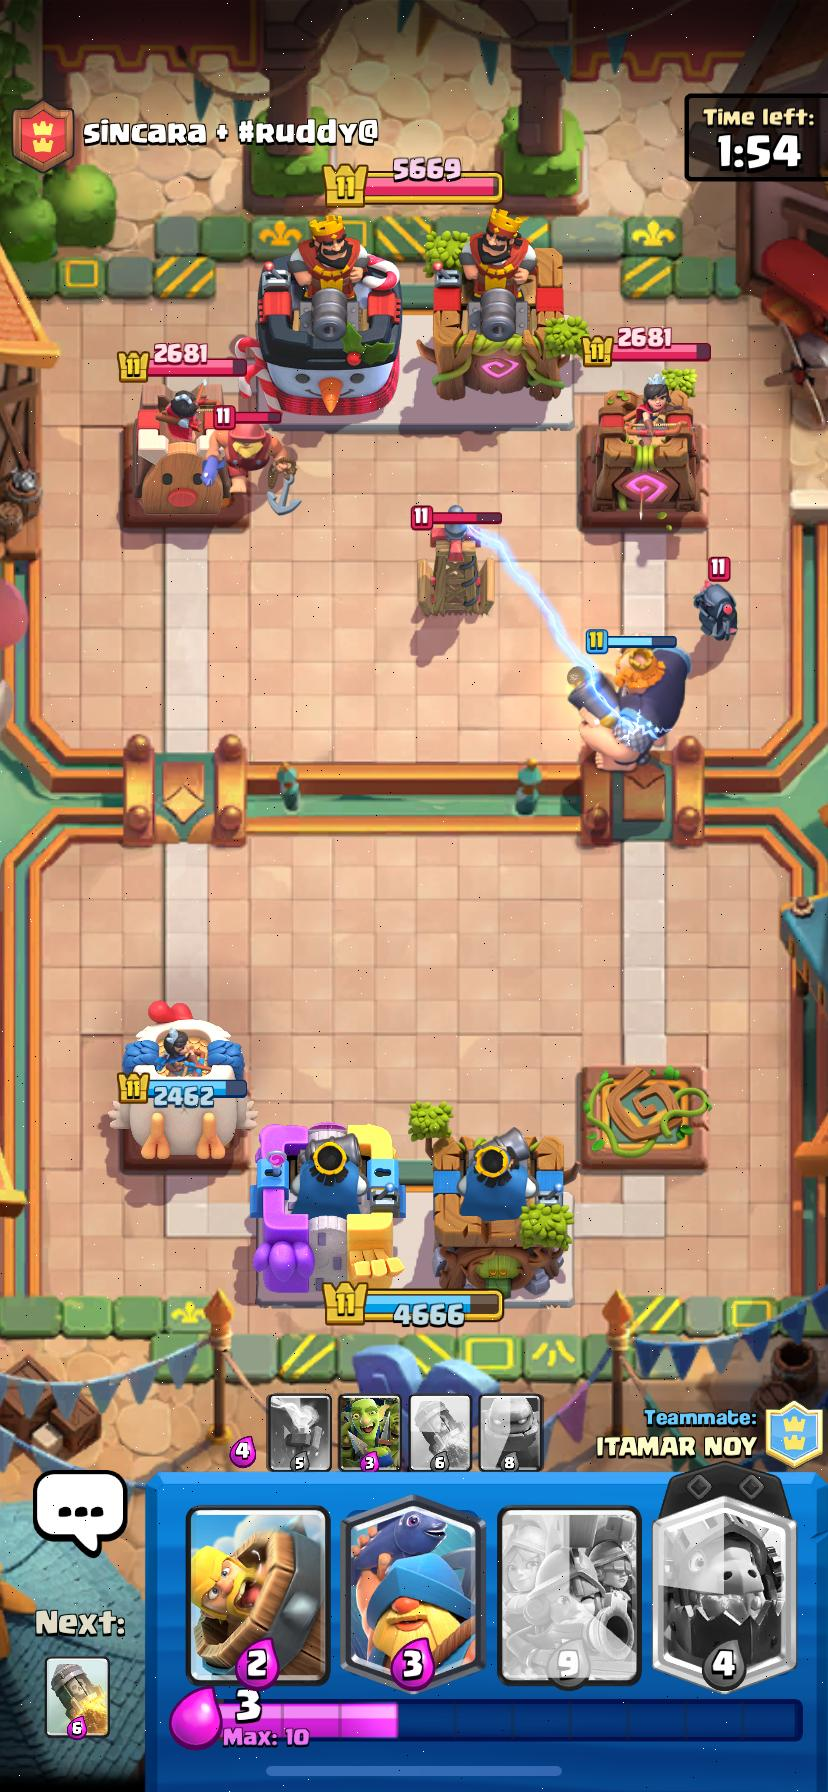EFisherman: (198, 423, 298, 515)
EKingTower: (419, 217, 570, 400), (255, 232, 401, 417)
EMiniPeka: (694, 583, 737, 640)
ETesla: (417, 512, 493, 616)
EnemyPrincessTower: (580, 378, 706, 529), (133, 392, 232, 518)
ORoyalG: (568, 635, 690, 768)
OwnKingTower: (250, 1123, 405, 1301), (433, 1128, 572, 1293)
OwnPrincessTower: (109, 1002, 255, 1161)
TowerDown: (579, 1065, 709, 1169)
